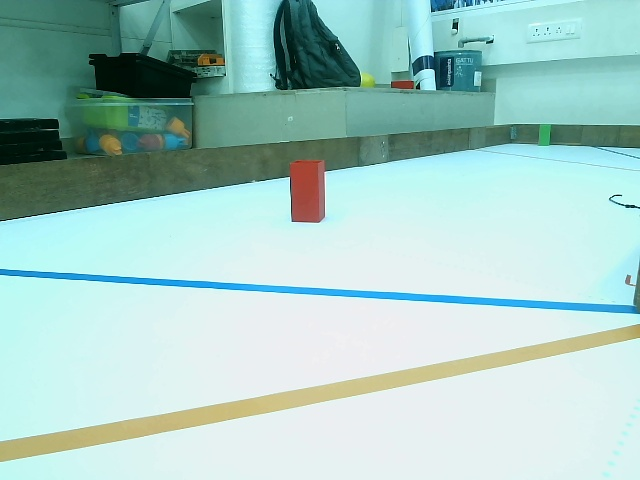red: (292, 161, 325, 220)
